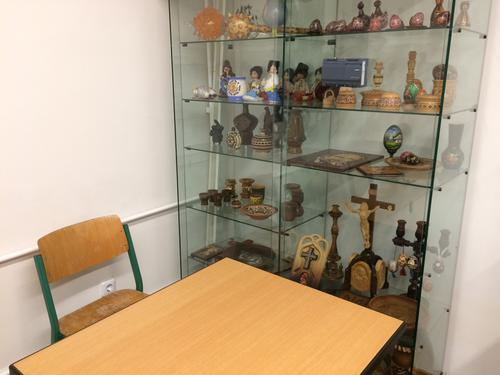iot2000: (321, 57, 370, 89)
